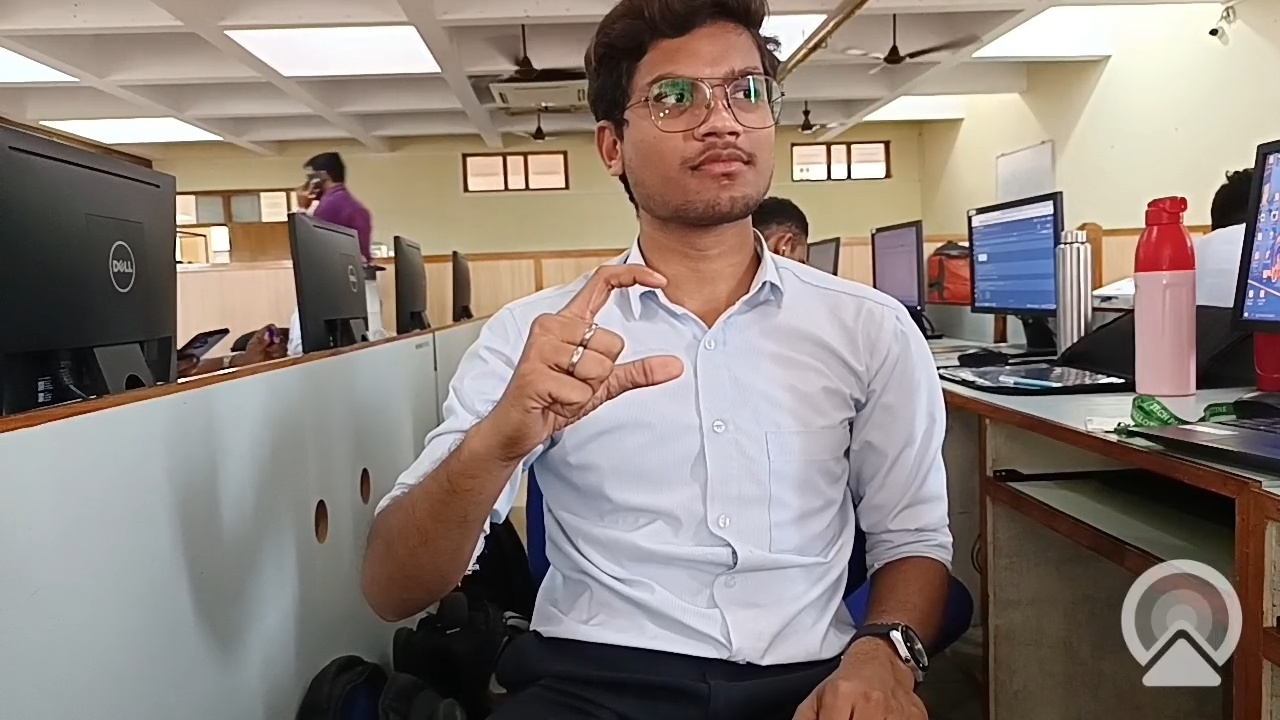C: (468, 263, 775, 472)
